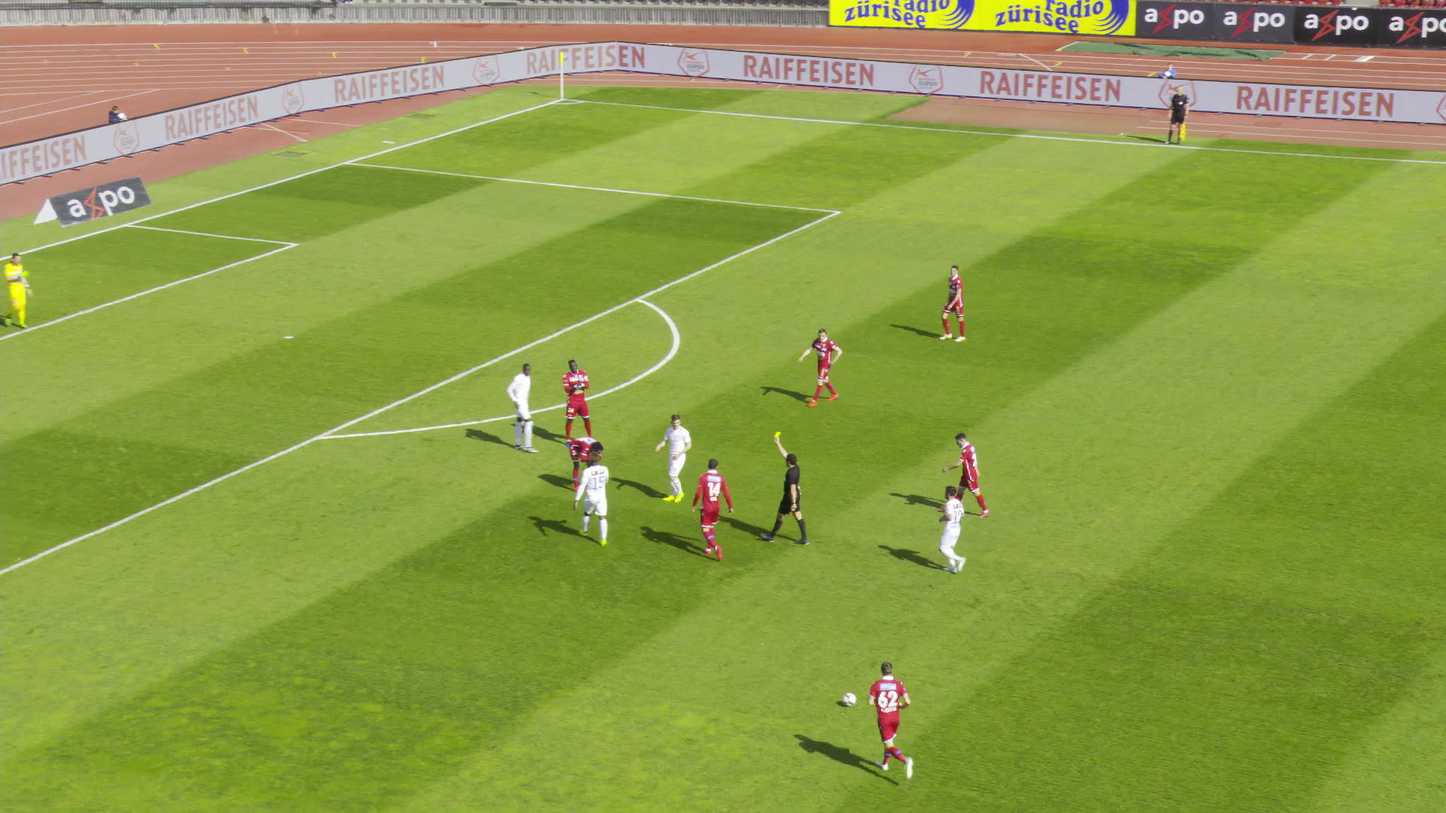ball: (841, 691, 854, 704)
player: (867, 661, 913, 780), (690, 458, 733, 560), (939, 432, 988, 519), (797, 327, 843, 407), (572, 452, 608, 547), (563, 360, 601, 449), (655, 414, 691, 501), (506, 363, 538, 452), (938, 485, 966, 572), (939, 264, 966, 341), (0, 252, 26, 329), (570, 436, 603, 493)
referee: (759, 439, 808, 547), (1163, 86, 1189, 145)
